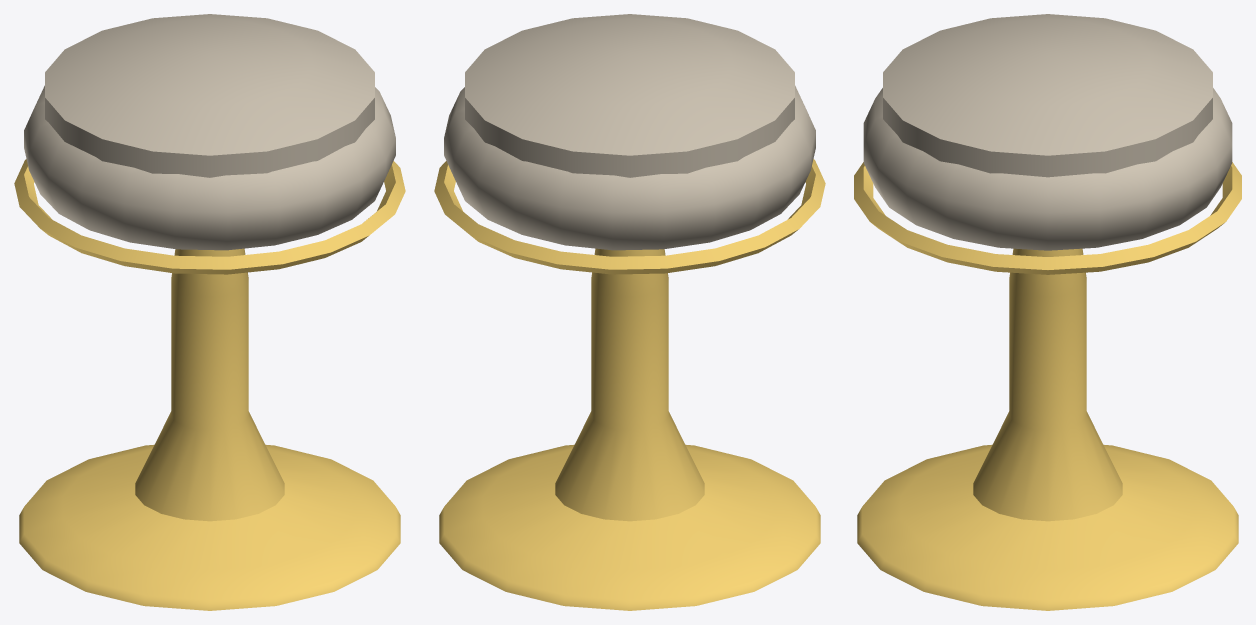
File: stool_salon_round.glb
3 renders of one model, left to right at view 1: azimuth 30°, elevation 25°; view 2: azimuth 150°, elevation 25°; view 3: azimuth 270°, elevation 25°, orthographic.
Parts seen in each view (by area): view 1: stool_salon_round; view 2: stool_salon_round; view 3: stool_salon_round.
Boxes of the visible parts, bbox=[...] form: stool_salon_round: bbox=[14, 14, 405, 610]; stool_salon_round: bbox=[434, 14, 825, 610]; stool_salon_round: bbox=[854, 14, 1241, 610].
Size of the model in its own units: 0.4 by 0.54 by 0.3959.
